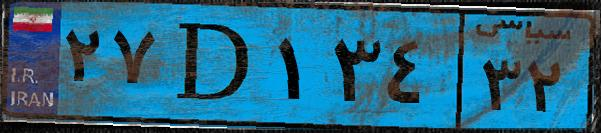1: (270, 28, 330, 110)
2: (57, 26, 110, 100), (525, 38, 570, 115)
3: (330, 28, 385, 110), (475, 38, 525, 113)
4: (385, 28, 445, 110)
7: (110, 28, 158, 98)
D: (158, 12, 270, 120)
